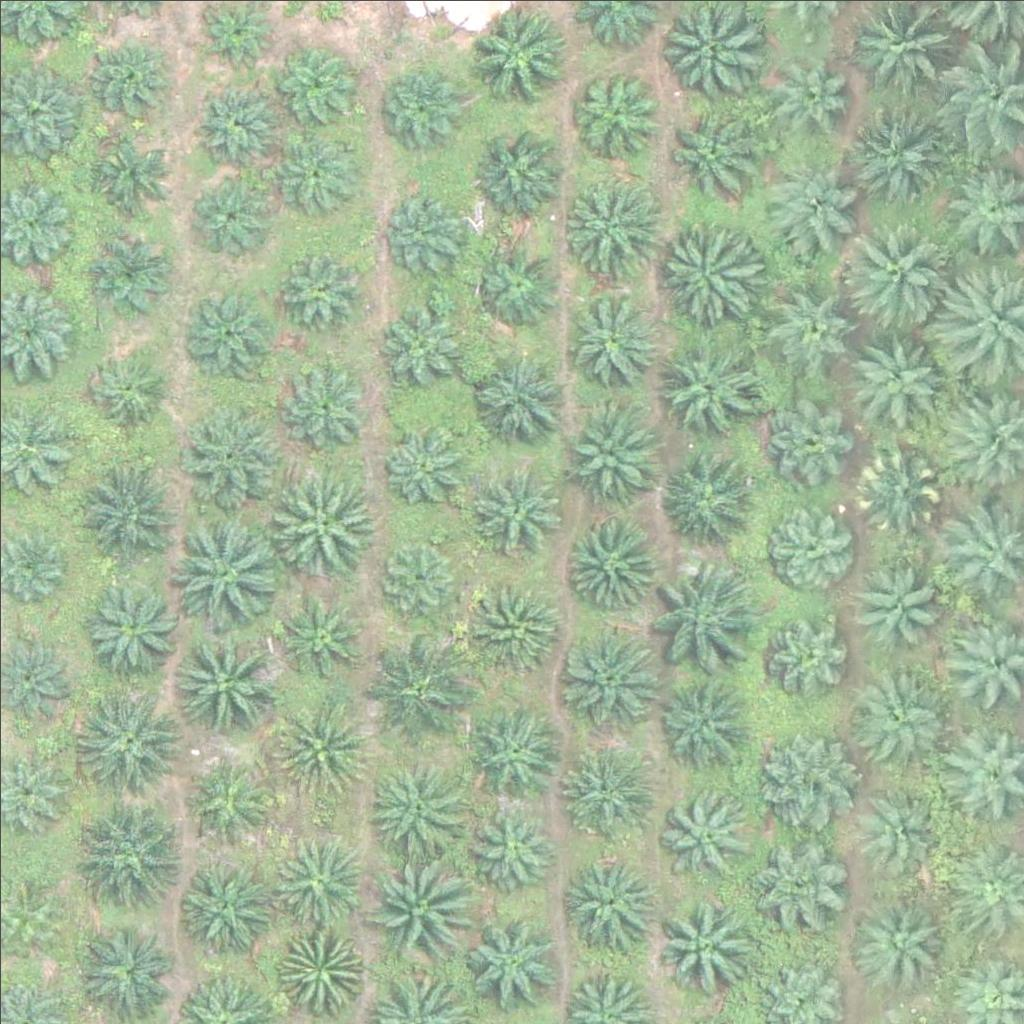Kelapa_Sawit: (77, 447, 190, 560), (168, 510, 281, 623), (642, 554, 755, 667), (357, 638, 470, 751), (163, 624, 275, 738), (269, 466, 381, 579), (837, 212, 949, 325), (359, 749, 471, 862), (364, 859, 476, 972), (77, 796, 189, 909), (76, 682, 188, 795), (81, 572, 181, 673), (184, 405, 284, 506), (467, 576, 567, 677), (465, 347, 565, 448), (469, 115, 569, 216), (559, 171, 659, 272), (655, 443, 755, 544), (659, 331, 759, 432), (659, 215, 759, 316), (844, 326, 944, 427), (849, 667, 949, 768), (749, 834, 849, 935), (751, 730, 851, 831), (648, 895, 748, 996), (655, 780, 755, 881), (651, 671, 751, 772), (557, 628, 657, 729), (558, 852, 658, 953), (465, 908, 565, 1009), (462, 696, 562, 797), (272, 697, 372, 798), (173, 853, 273, 954), (74, 922, 174, 1023), (560, 510, 660, 610), (559, 405, 659, 505), (657, 100, 757, 200), (756, 156, 856, 256), (849, 100, 949, 200), (550, 742, 650, 842), (371, 532, 459, 620), (382, 425, 470, 513), (378, 297, 466, 385), (385, 195, 473, 283), (283, 247, 371, 335), (185, 292, 273, 380), (84, 346, 172, 434), (469, 464, 557, 552), (569, 62, 657, 150), (851, 903, 939, 991), (273, 840, 361, 928), (277, 589, 365, 677), (179, 765, 267, 853), (379, 60, 466, 148), (269, 43, 356, 131), (273, 128, 360, 216), (282, 364, 369, 452), (188, 167, 275, 255), (187, 83, 274, 171), (89, 39, 176, 127), (81, 136, 168, 224), (89, 233, 176, 321), (474, 242, 561, 330), (565, 298, 652, 386), (762, 604, 849, 692), (765, 495, 852, 583), (762, 396, 849, 484), (765, 279, 852, 367), (765, 35, 852, 123), (855, 443, 942, 531), (856, 558, 943, 646), (857, 782, 944, 870), (468, 807, 555, 895), (276, 932, 363, 1020)
